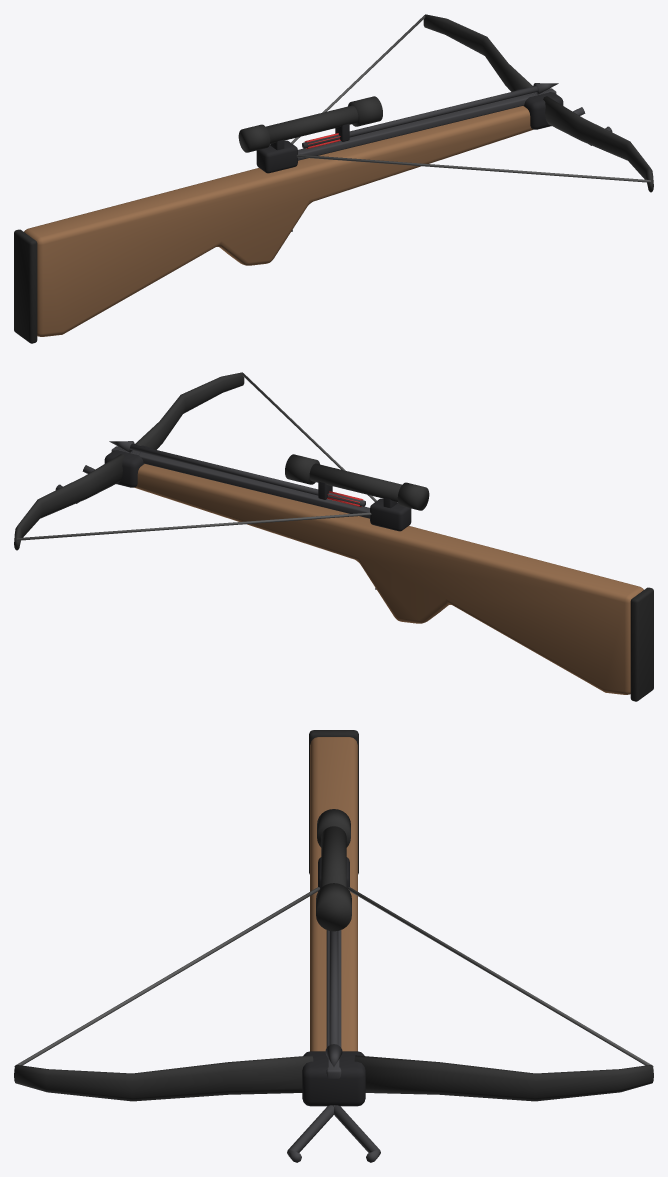
File: SM_Crossbow.glb
The picture shows the model from 3 angles, top to bottom: view 1: azimuth 30°, elevation 25°; view 2: azimuth 150°, elevation 25°; view 3: azimuth 270°, elevation 25°; orthographic projection. The views are drawn at different scales.
Parts seen in each view (by area): view 1: SM_Crossbow; view 2: SM_Crossbow; view 3: SM_Crossbow.
Boxes of the visible parts, x1,y1,x2,y2 form: SM_Crossbow: (14,14,653,343); SM_Crossbow: (14,372,653,701); SM_Crossbow: (14,730,653,1162).
Size of the model in its own units: 0.8837 by 0.227 by 0.6036.
